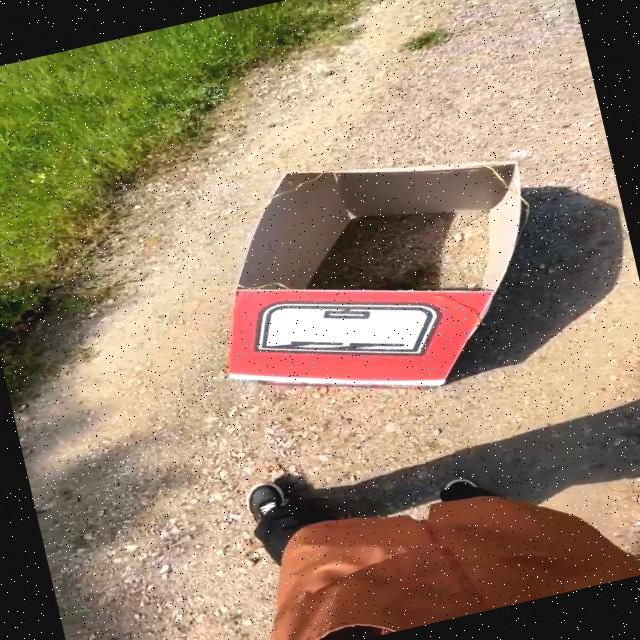red_car: (110, 84, 640, 465)
